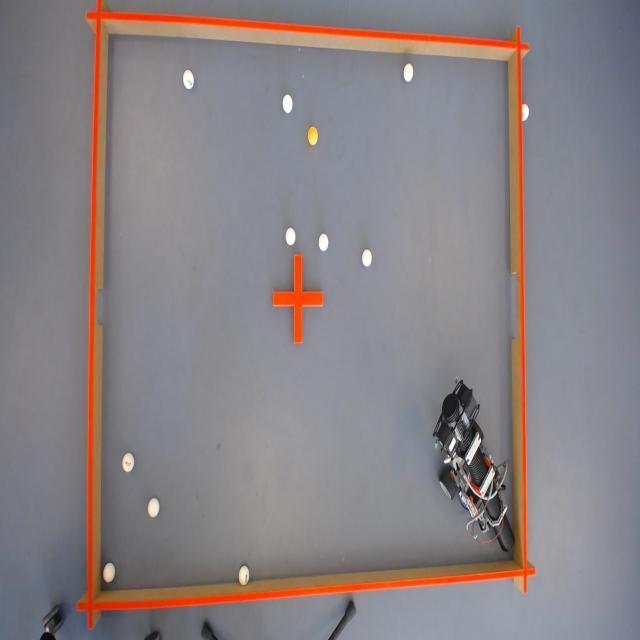orange: (306, 125, 320, 147)
robot: (432, 368, 507, 565)
white: (182, 68, 196, 90), (146, 498, 160, 520), (102, 562, 115, 584), (120, 451, 134, 471), (283, 226, 296, 247), (315, 231, 328, 251), (238, 565, 249, 588), (281, 92, 292, 114), (362, 249, 374, 268), (404, 61, 414, 80)
